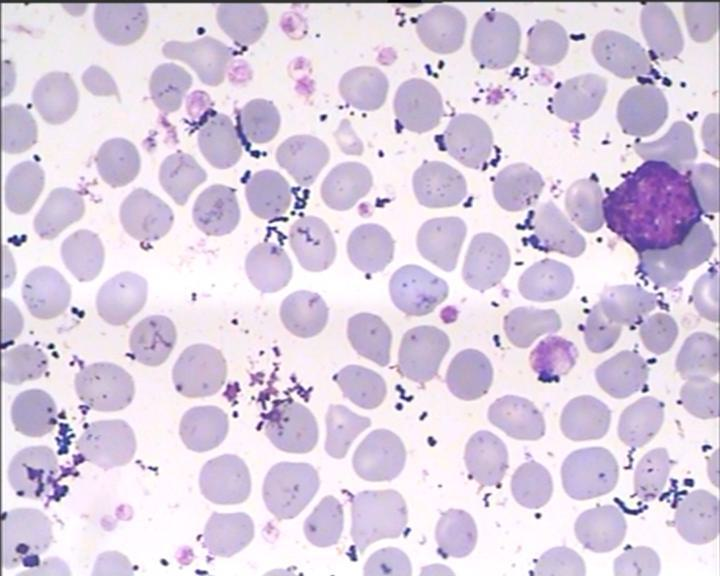baso: (596, 157, 705, 254)
